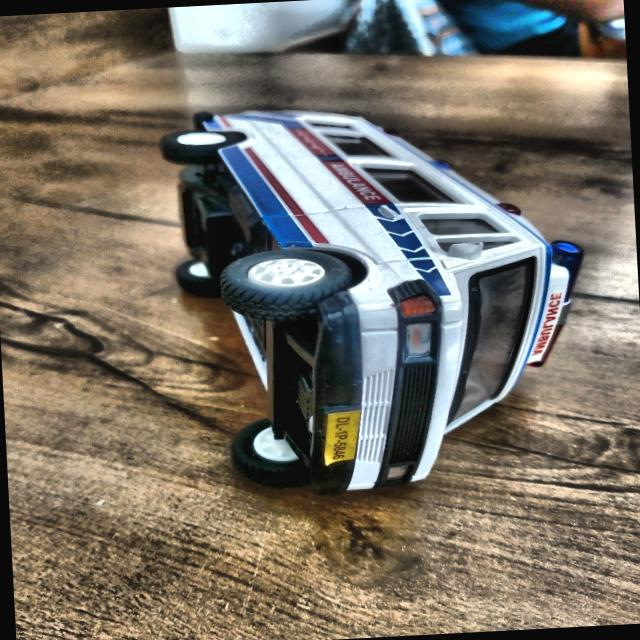Ambulance: (150, 88, 600, 496)
